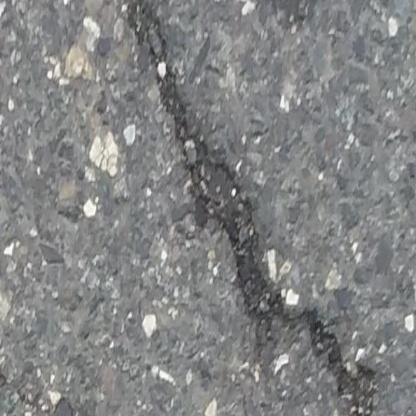Cracks: (115, 0, 388, 416)
